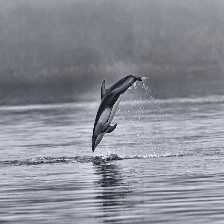dolphin: (91, 75, 149, 152)
